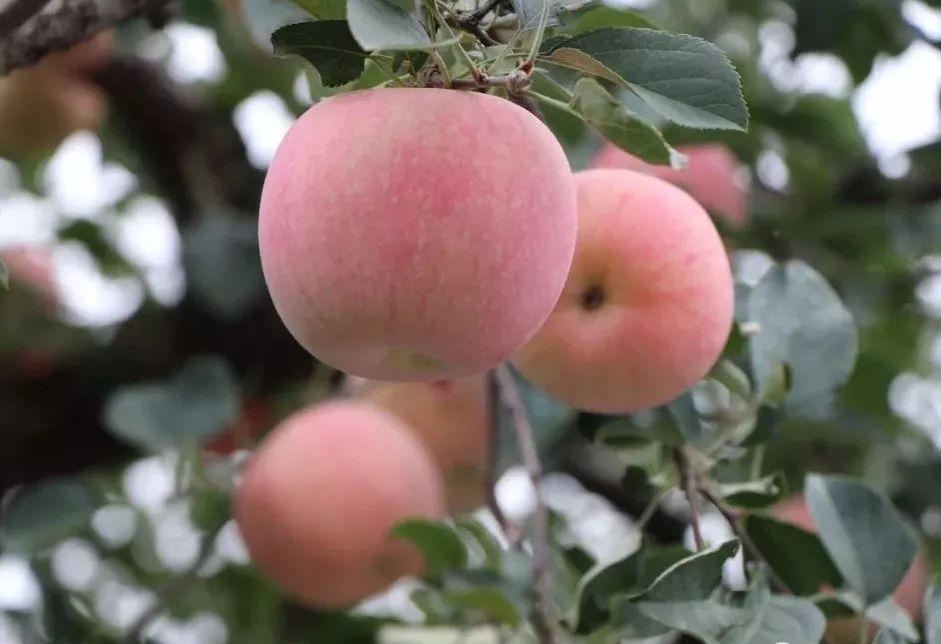apple: (255, 80, 581, 384), (509, 168, 736, 418), (229, 394, 451, 611)
